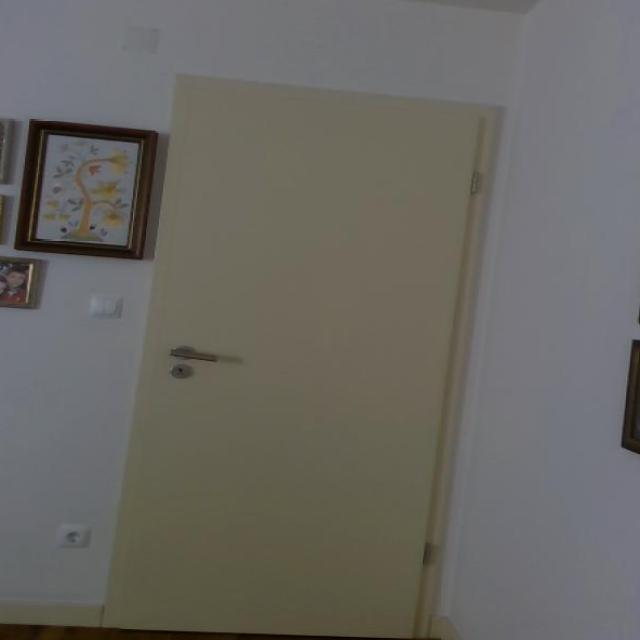door: (99, 72, 499, 637)
